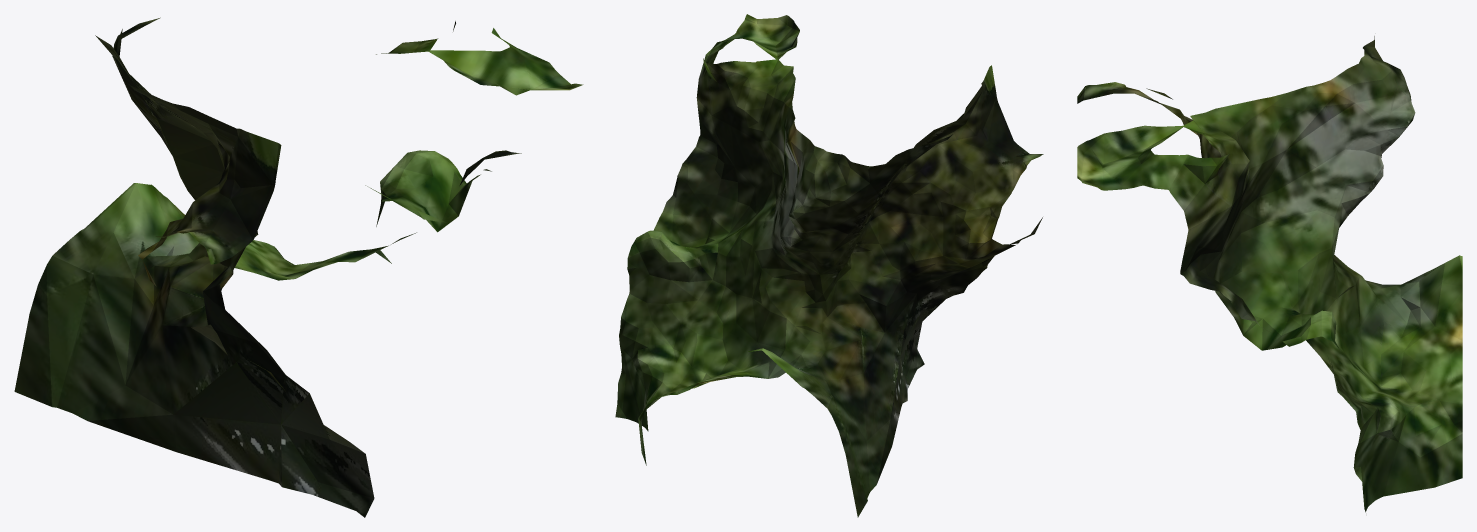
3 renders of one model, left to right at view 1: azimuth 30°, elevation 25°; view 2: azimuth 150°, elevation 25°; view 3: azimuth 270°, elevation 25°, orthographic. The views are drawn at different scales.
Bounding box in the file's own units: 0.8374 × 0.8374 × 0.8373.
5 materials, 5 textured.
